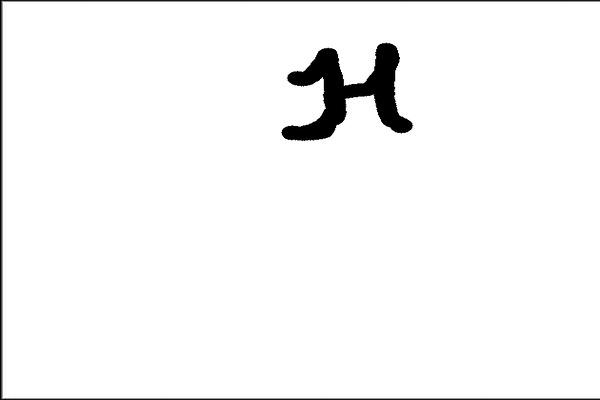H: (271, 33, 423, 147)
